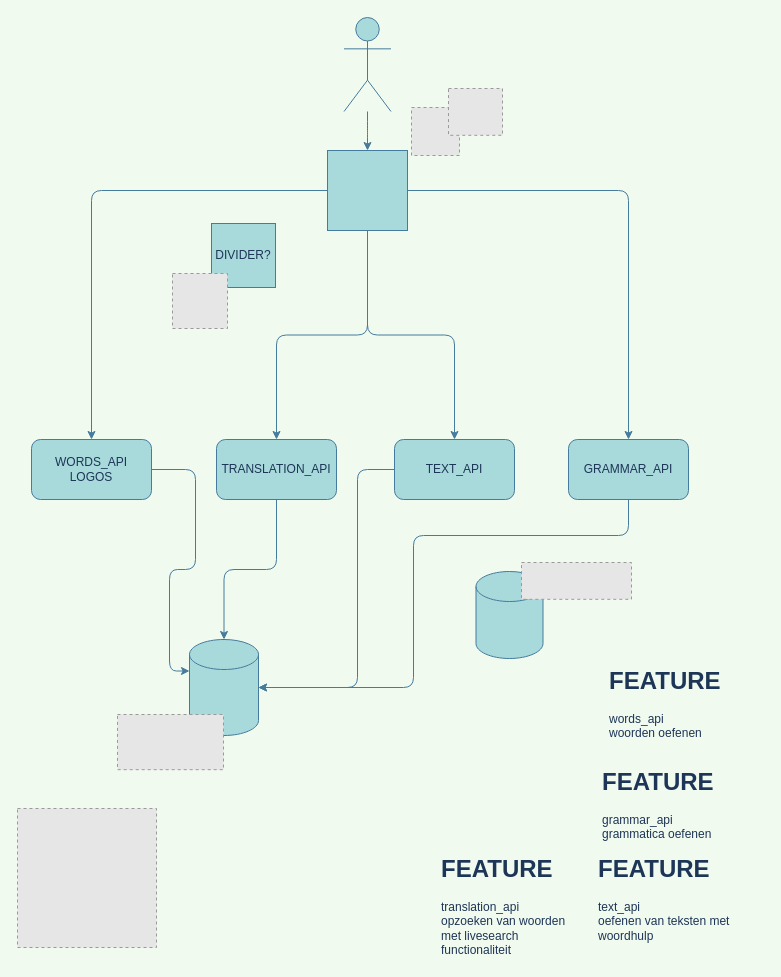
Image size: 781x977. Some labels were removed from this diagram. Grey dashed boxes stand in for pictures. Each missing label, with the centre of its shape:
CACHE: point 509,614
DATABASE: point 223,687
SPA: point 367,190
